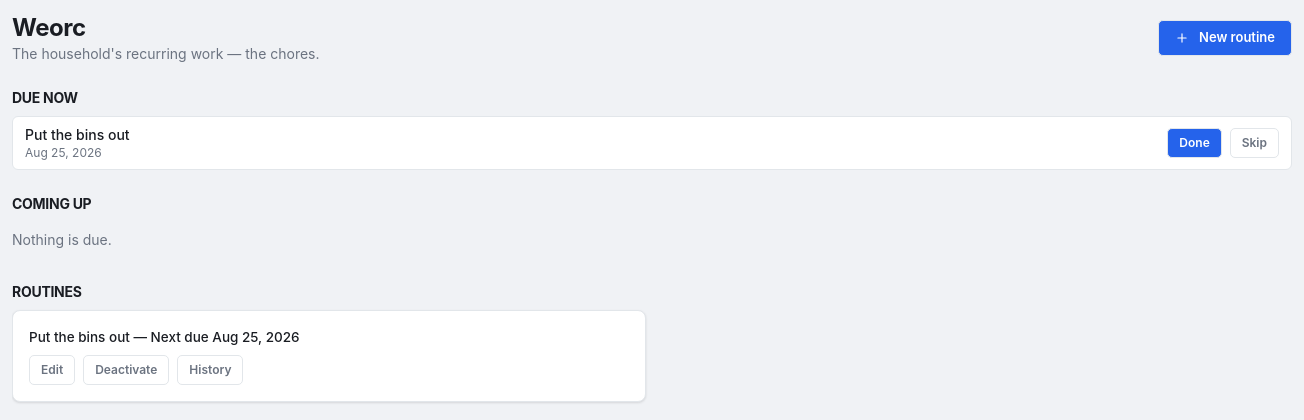
it: the Weorc page › refreshes the routine card so it stops showing the just-completed due date
expect the text "Put the bins out — Next due Aug 25, 2026" is shown: met, box [29,327,300,347]
Click the button "Done".
click(1194, 143)  # box [1167,128,1222,158]
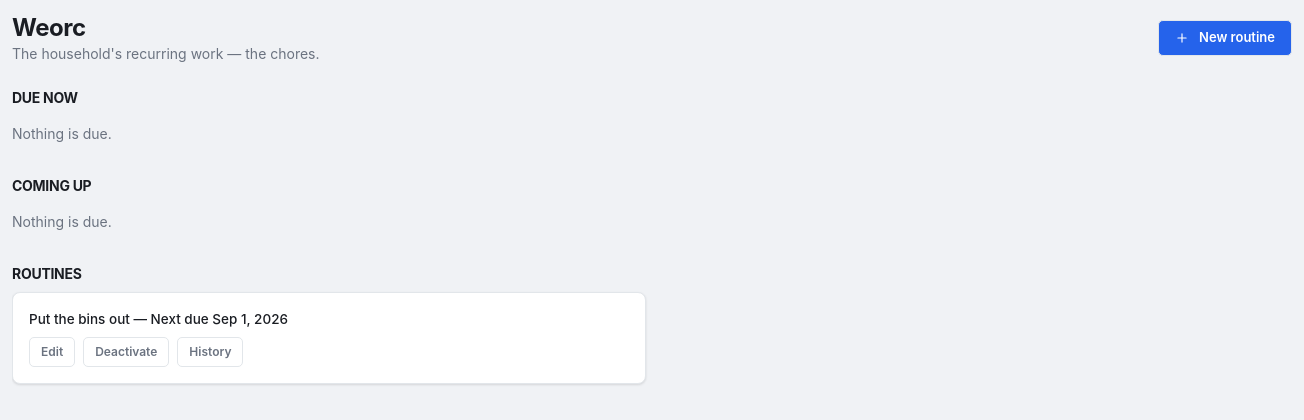
expect the text "Put the bins out — Next due Sep 1, 2026" is shown: met, box [29,309,288,329]
expect the text "Next due Aug 25, 2026" is gone: met
